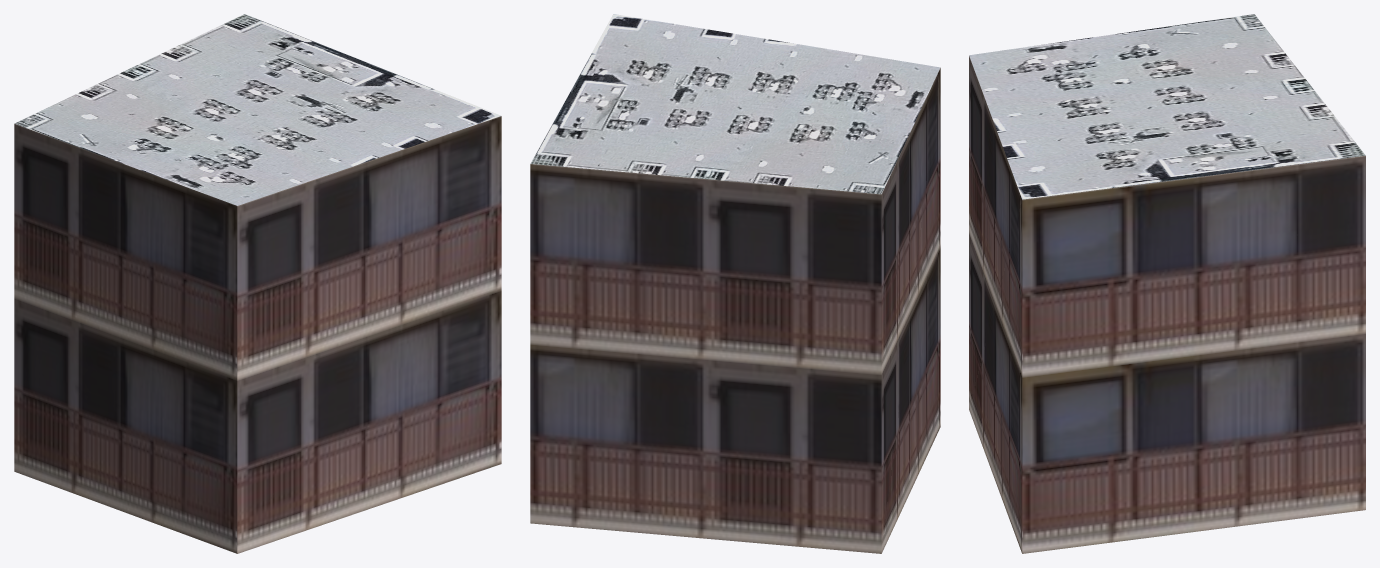
Rendered from ResTex__2837.fbx.
3 views of the same model, side by side, from view 1: azimuth 30°, elevation 25°; view 2: azimuth 150°, elevation 25°; view 3: azimuth 270°, elevation 25° (orthographic). The views are drawn at different scales.
Visible parts, largest first — view 1: CityEngineMaterial_6_m, CityEngineMaterial_4_m; view 2: CityEngineMaterial_6_m, CityEngineMaterial_4_m; view 3: CityEngineMaterial_6_m, CityEngineMaterial_4_m.
Boxes of the visible parts, x1,y1,x2,y2 form: CityEngineMaterial_6_m: (14,116,501,553); CityEngineMaterial_4_m: (14,14,500,205); CityEngineMaterial_6_m: (530,68,940,553); CityEngineMaterial_4_m: (530,14,940,194); CityEngineMaterial_6_m: (969,56,1365,553); CityEngineMaterial_4_m: (969,14,1365,199).
Bounding box in the file's own units: 6.74 × 6 × 6.09.
Materials: 2 (2 with a texture image).
